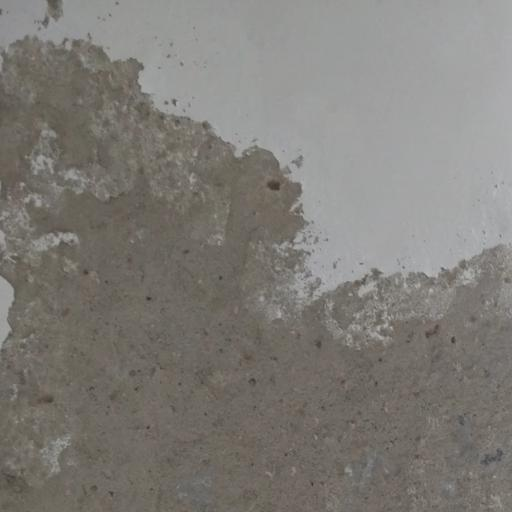peeling: (0, 14, 512, 512)
